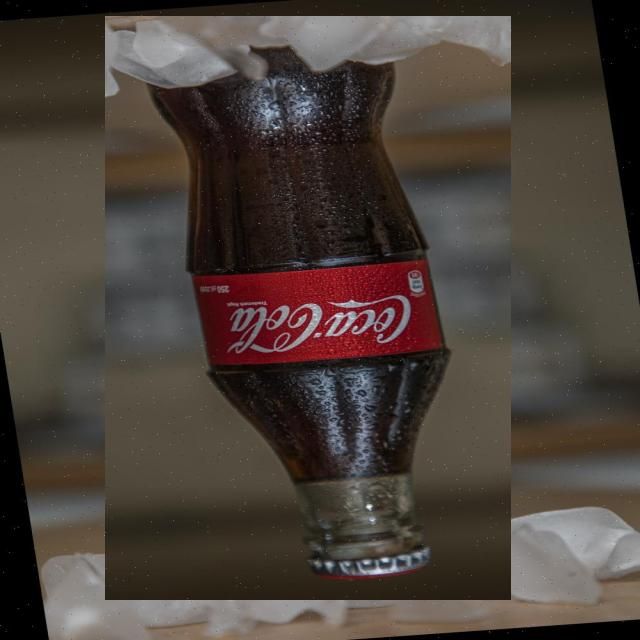coca-cola: (105, 16, 511, 600)
